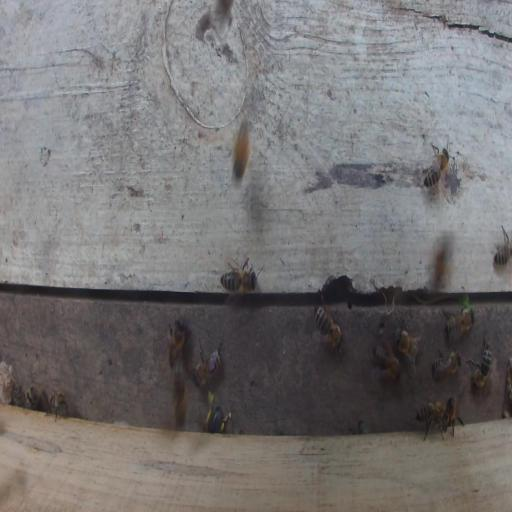nonpollenbee: (190, 335, 224, 391), (464, 329, 492, 391), (313, 304, 345, 358), (220, 259, 258, 301), (416, 399, 450, 443), (441, 305, 476, 346), (371, 337, 402, 382), (422, 142, 450, 190), (167, 317, 193, 367), (233, 115, 253, 180), (430, 348, 463, 380), (171, 364, 187, 429), (445, 390, 466, 438), (394, 326, 420, 364), (43, 387, 70, 423), (493, 224, 512, 266), (12, 383, 26, 406)
pollenbee: (194, 391, 233, 434)
